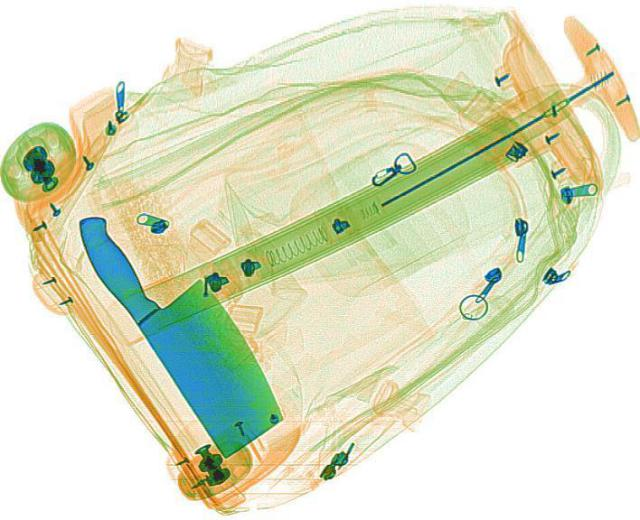Knife: (63, 189, 305, 462)
